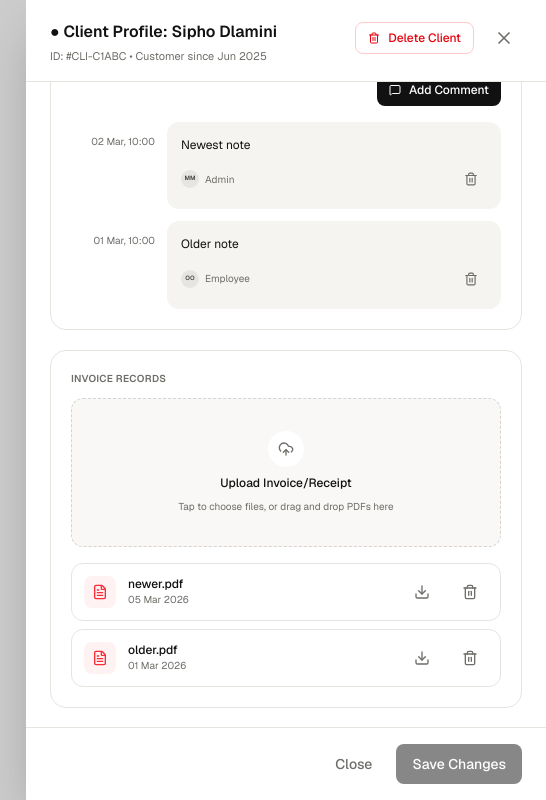
Test: invoices › deletes an invoice
The width and height of the screenshot is (546, 800).
(page scrolled)
Expected: the heading "● Client Profile: Sipho Dlamini" is shown, [50,20,277,44]
Click the button named "Delete invoice" in the row of "older.pdf".
click(470, 658)  # box [452,640,488,676]
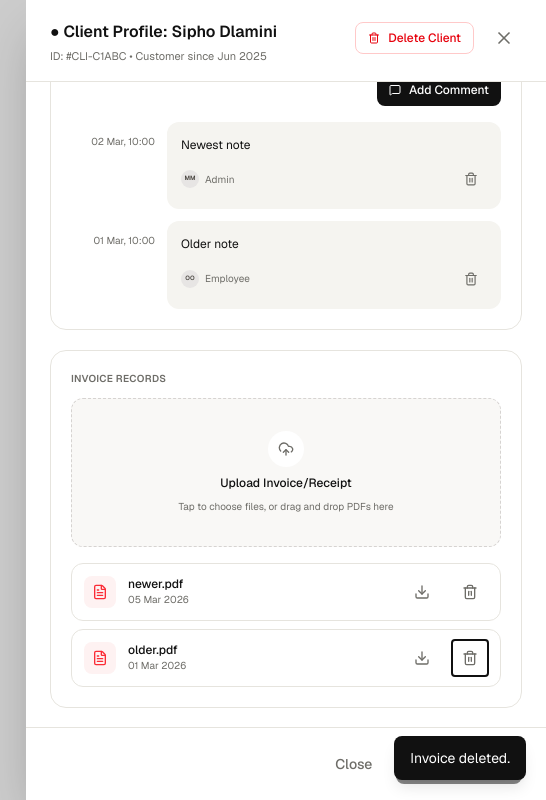
Now the text "Invoice deleted." is shown, box [394,736,526,780]
